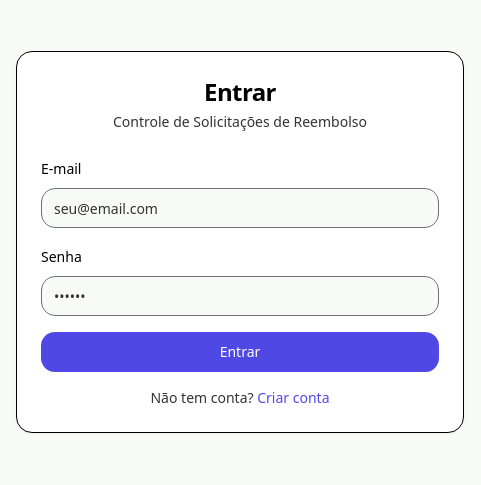
Scenario: LoginPage › shows error message for invalid credentials (401)
Type "wrong@test.com" into the field labelled "E-mail".
click(240, 208); type("wrong@test.com")  # box x1=41 y1=188 x2=439 y2=228
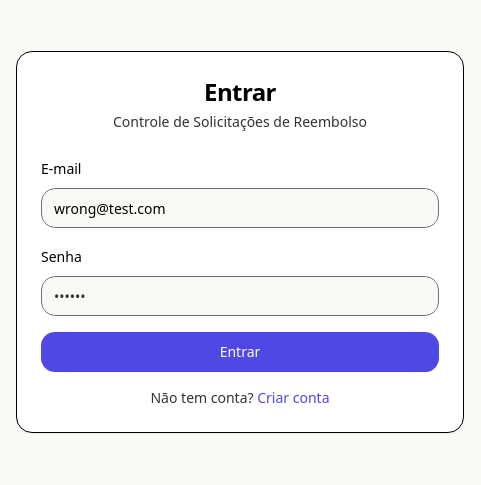
Type "wrongpass" into the password field labelled "Senha".
click(240, 296); type("wrongpass")  # box x1=41 y1=276 x2=439 y2=316
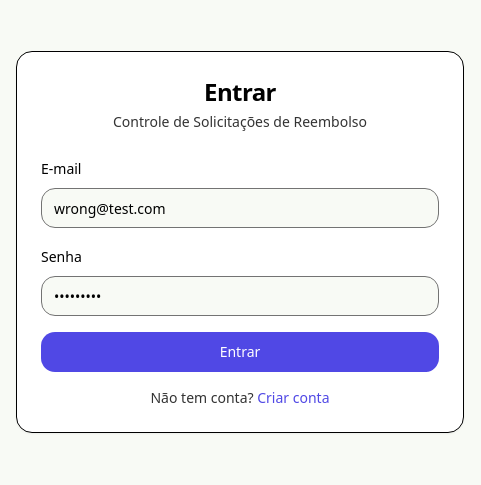
Click the button "Entrar".
click(240, 352)  # box x1=41 y1=332 x2=439 y2=372
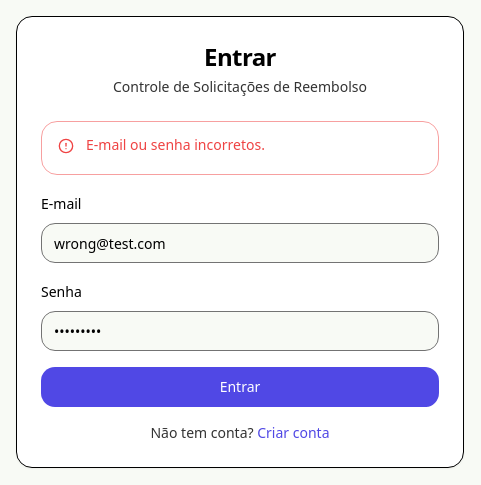
Expected: the text "E-mail ou senha incorretos." is shown, x1=86 y1=135 x2=265 y2=154
